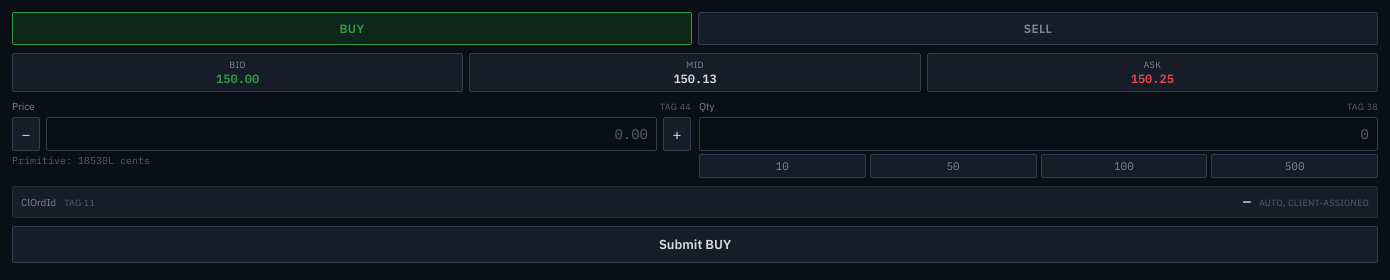
<OrderEntry /> reference chips (P7-7) › populates exactly the current best bid / mid / ask in cents
Click the button with test id "chip-bid": (238, 72) [12,53,463,92]
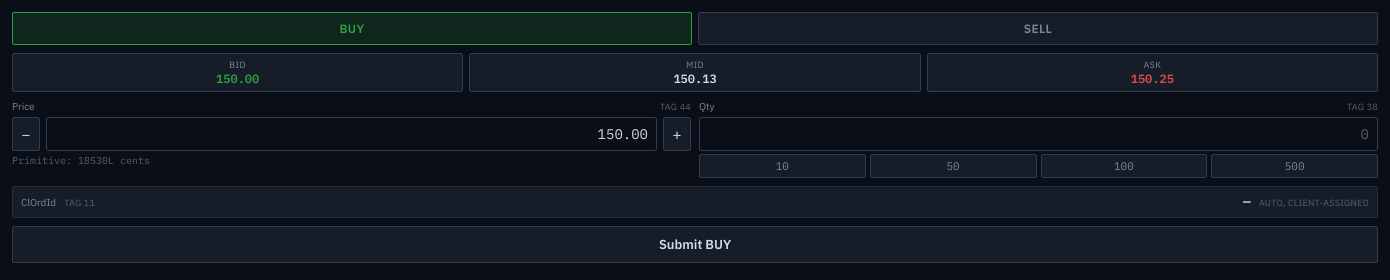
Expected: the field with test id "price-input" holds "150.00", [46,117,657,151]
Click the button with test id "chip-ask": (1152, 72) [927,53,1378,92]
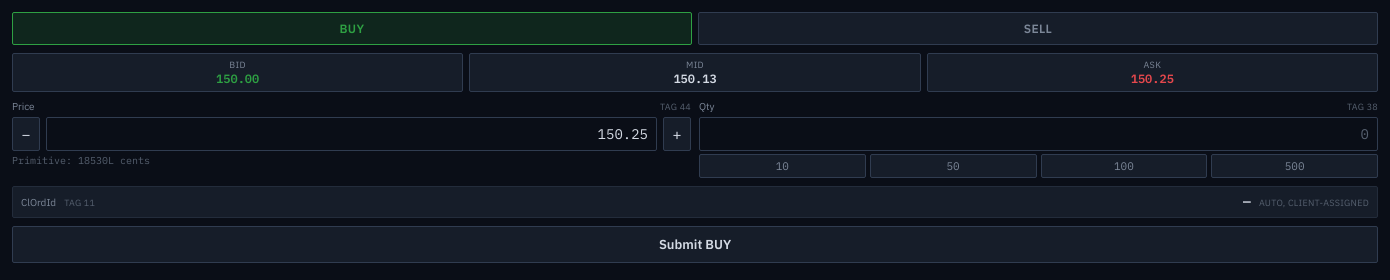
Expected: the field with test id "price-input" holds "150.25", [46,117,657,151]
Click the button with test id "chip-mid": (695, 72) [469,53,921,92]
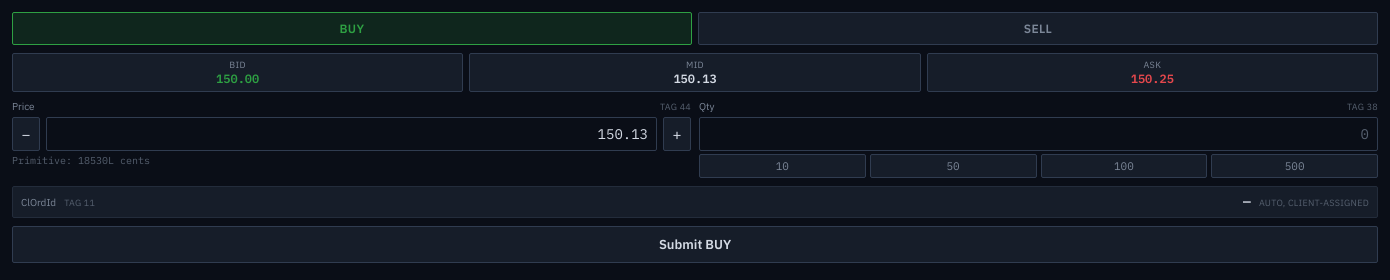
Expected: the field with test id "price-input" holds "150.13", [46,117,657,151]
